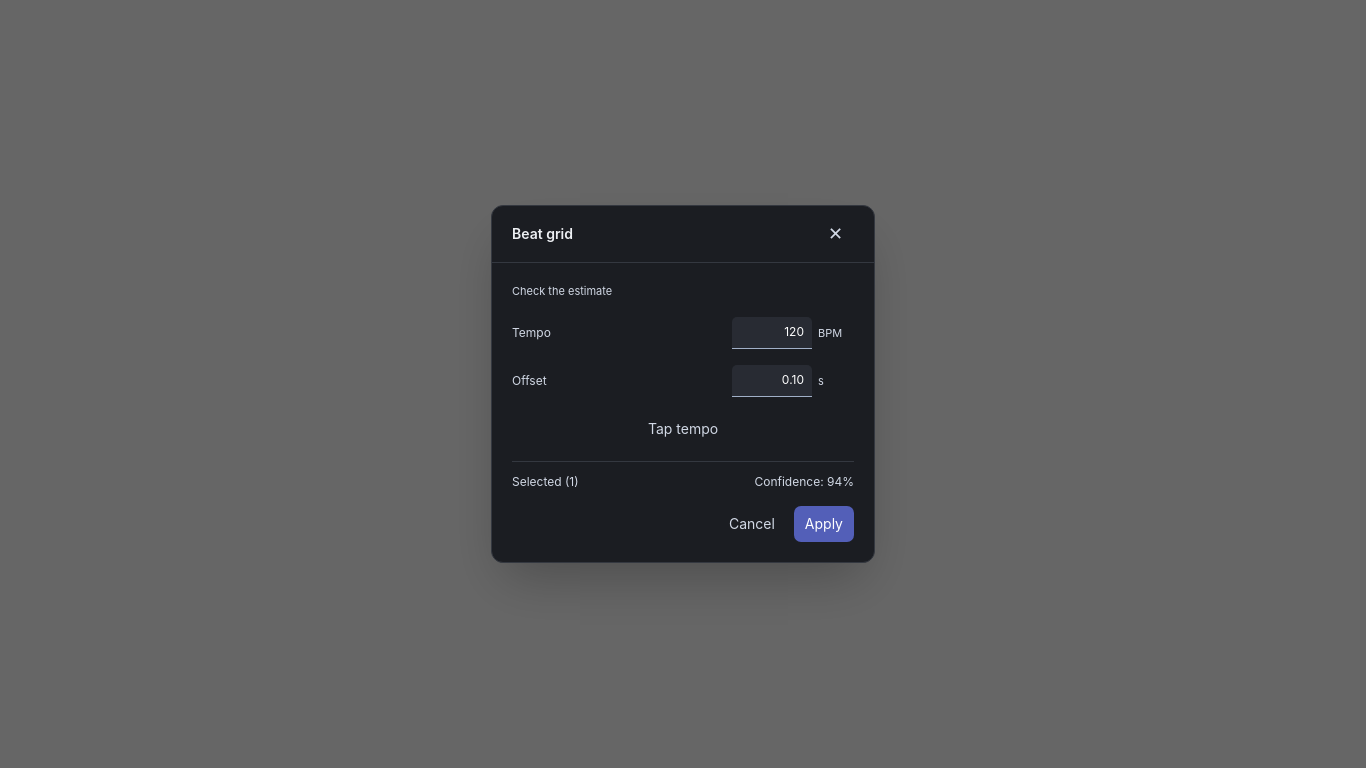
cannot apply an invalid offset Infinity
Replace the text in the field named "Offset" with "Infinity" at (772,381), box [732,365,812,397]
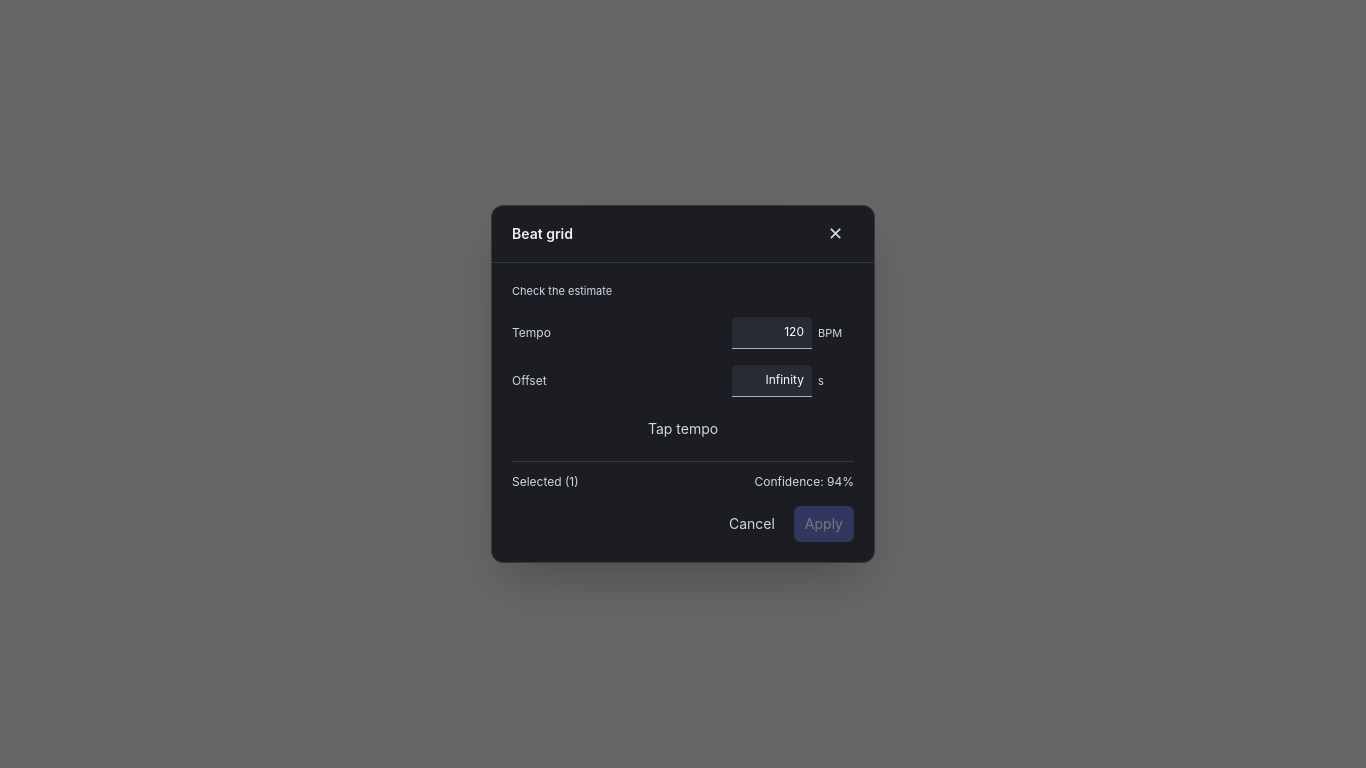
Expected: the button "Apply" is disabled, [794,506,854,542]
